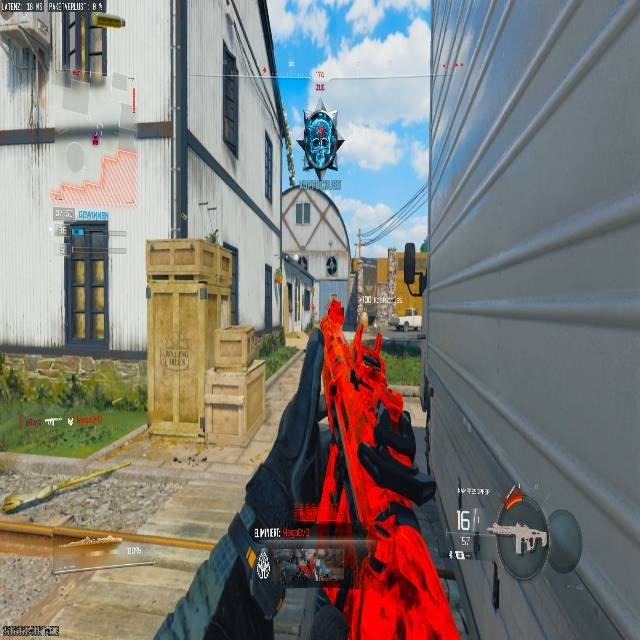player: (294, 104, 344, 180)
